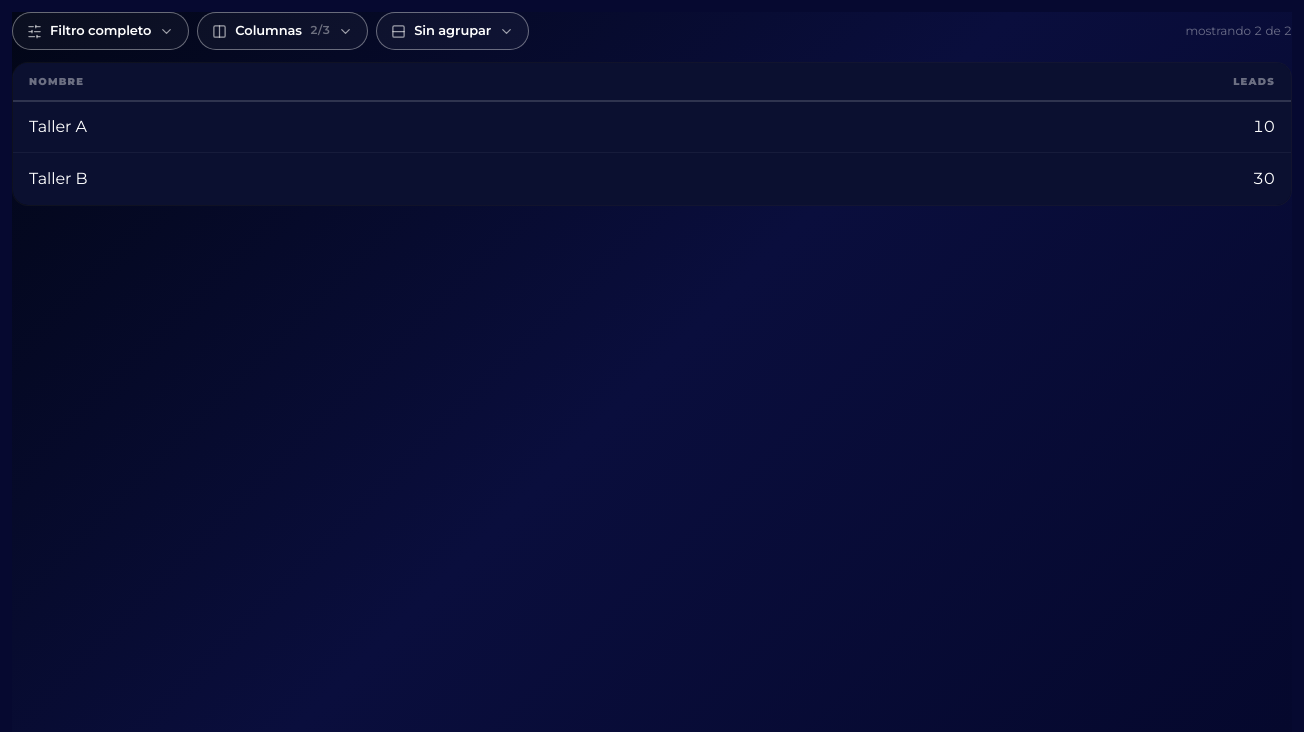
Test: ListaConfigurable · agrupar › agrupa por una dimensión en grupos con su cantidad
Click the button "Sin agrupar". click: (453, 31)
box: [376,12,529,50]
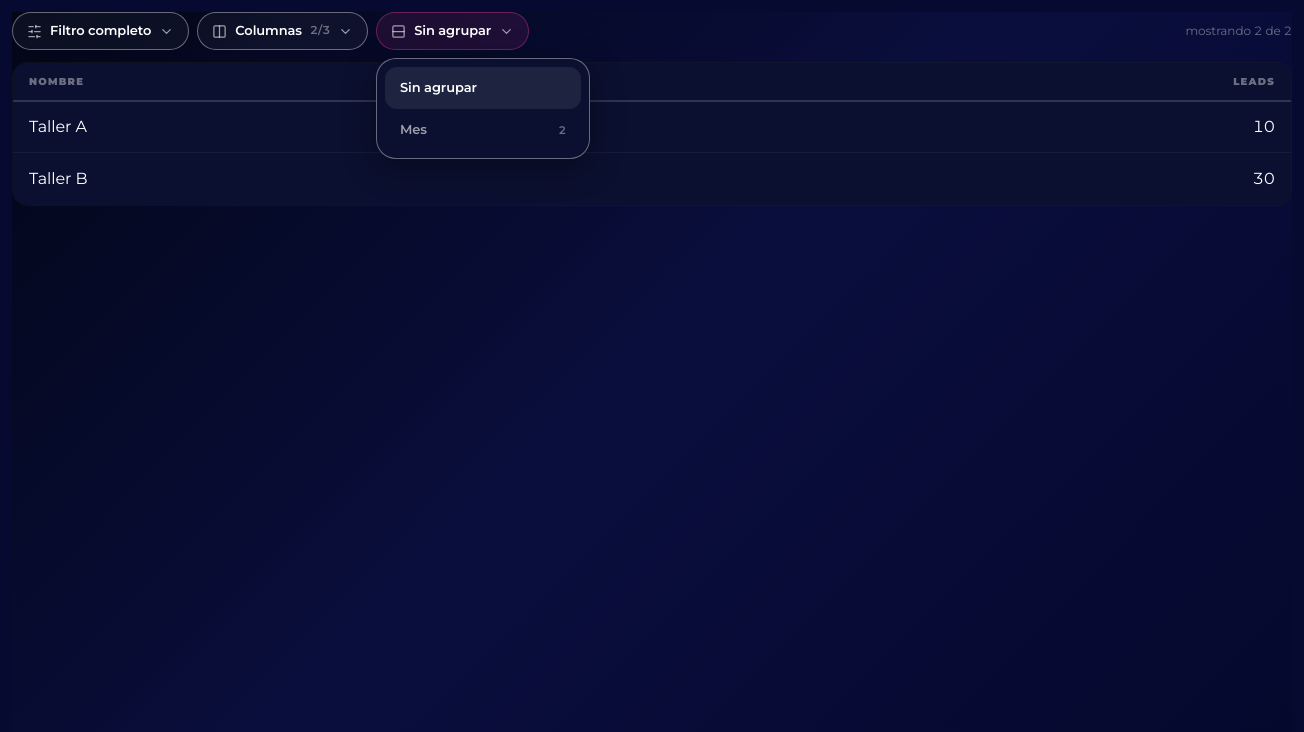
Click the text "Mes". click: (414, 129)
box: [400,120,427,139]
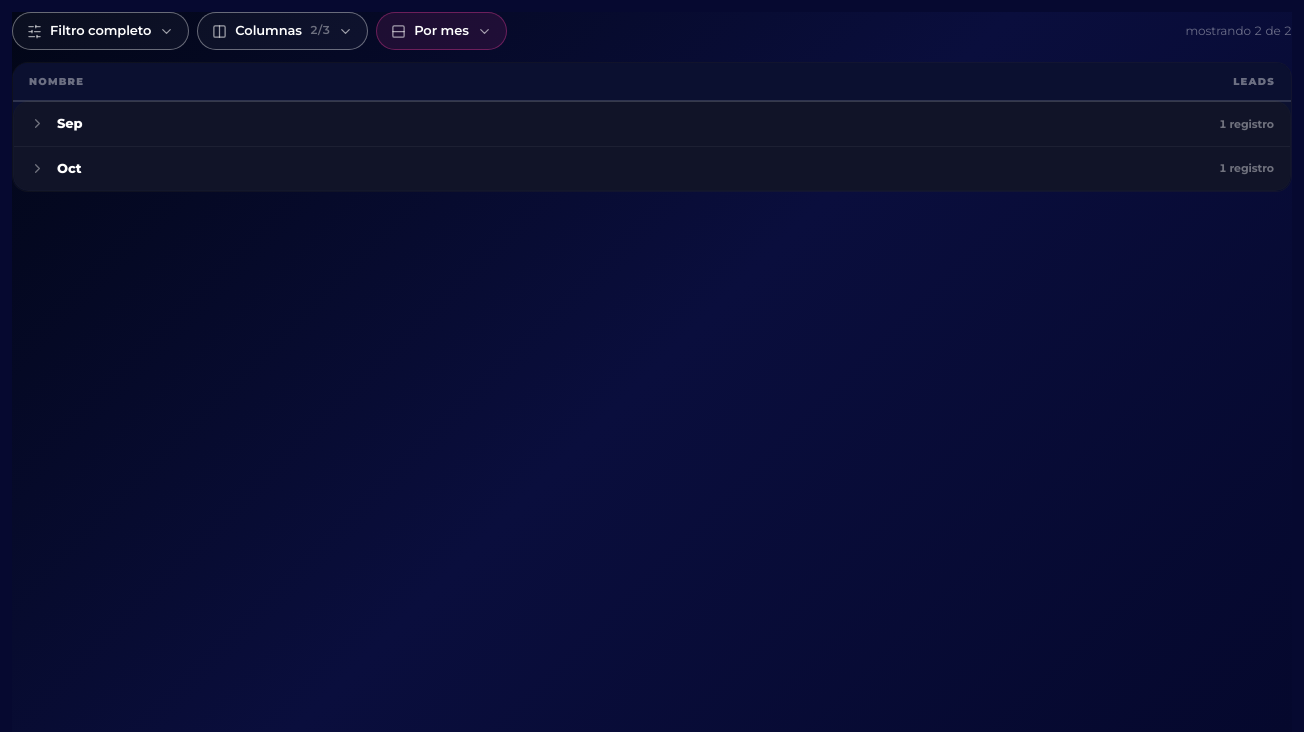
Check: the button "Por mes" is shown, box [376,12,507,50]
Check: the text "Sep" is shown, box [57,114,83,134]
Check: the text "Oct" is shown, box [57,158,82,178]
